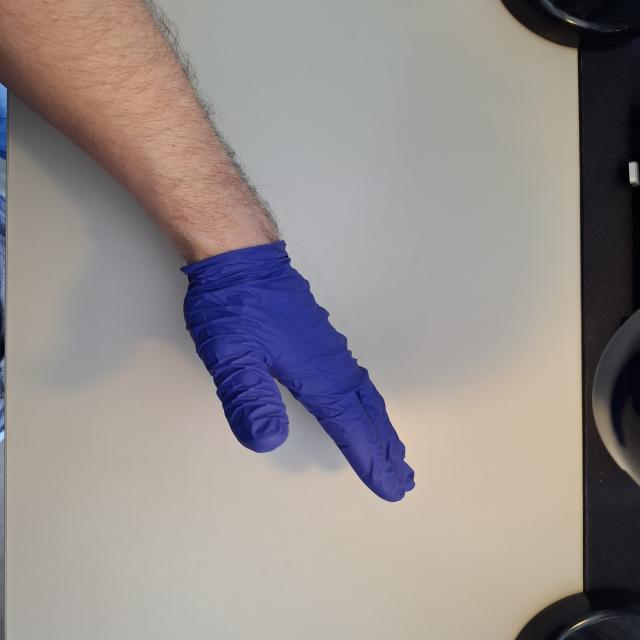glove_on: (178, 243, 419, 505)
